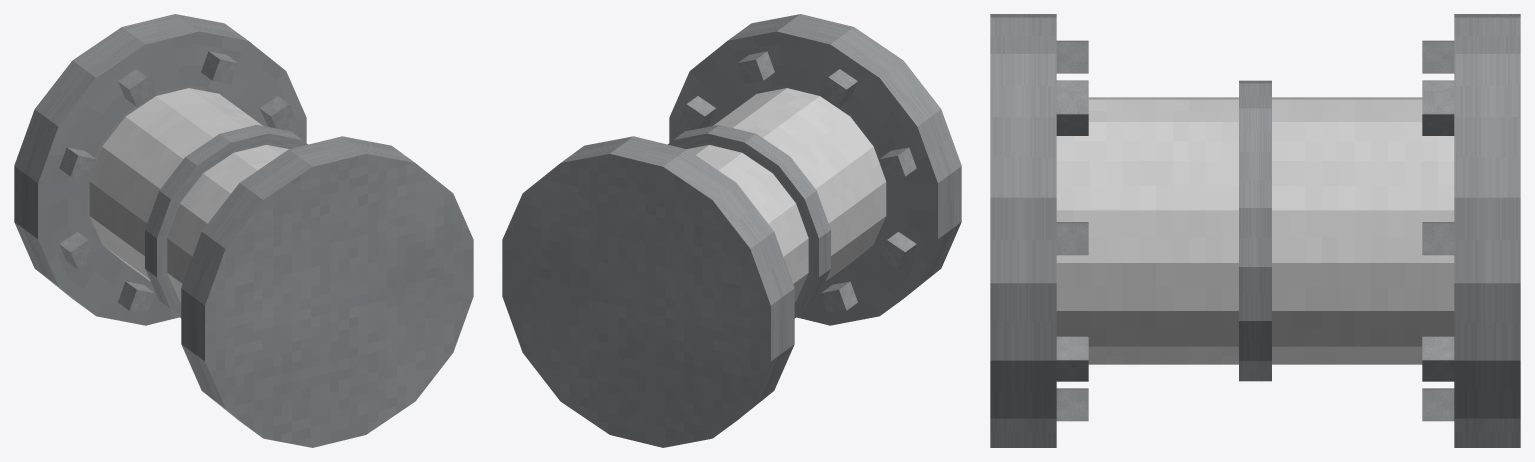
File: item.obj
The picture shows the model from 3 angles, left to right: view 1: azimuth 30°, elevation 25°; view 2: azimuth 150°, elevation 25°; view 3: azimuth 270°, elevation 25°; orthographic projection. The views are drawn at different scales.
Size of the model in its own units: 0.8125 by 0.8125 by 1.
